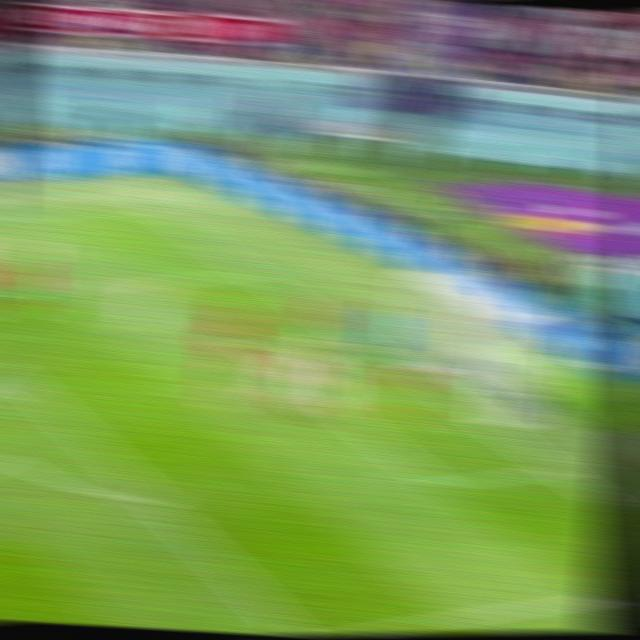bigarea_bottom_inner: (280, 619, 328, 636)
bigarea_top_outter: (233, 259, 274, 285)
bottom_arc_area_intersection: (130, 482, 177, 517)
corner: (129, 198, 172, 217)
smallarea_bottom_inner: (414, 465, 462, 503)
smallarea_bottom_outter: (535, 454, 579, 484)
smallarea_top_inner: (228, 331, 269, 358)
smallarea_top_outter: (330, 321, 371, 346)
top_arc_area_intersection: (2, 368, 45, 394)
